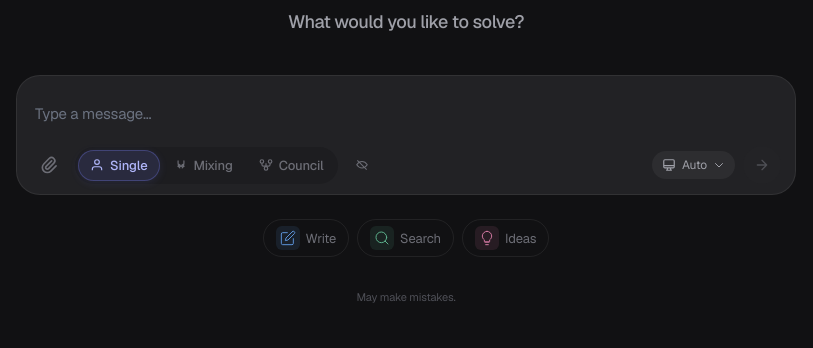
Test: ChatPage — Council Count Display › shows auto council count when no manual config exists
// Enable council mode by clicking the Council button
Click the button "Council". click: click(291, 165)
box: [247,150,336,181]
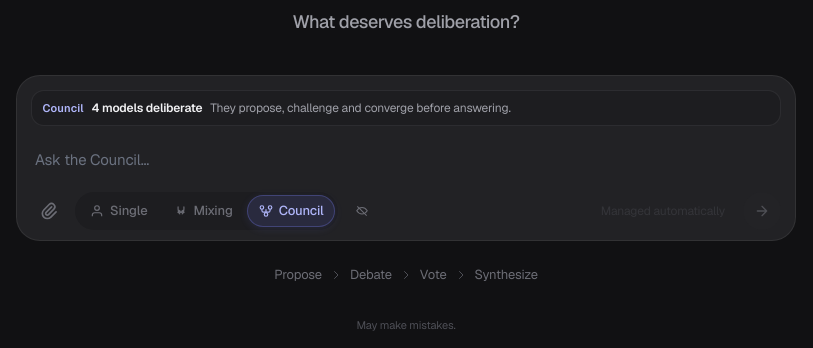
Result: the text "4 models deliberate" is shown at [92,100,202,116]
